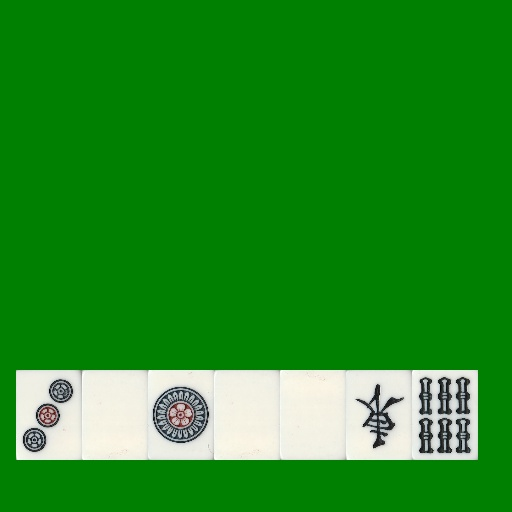1p: (148, 370, 214, 460)
3p: (16, 370, 82, 460)
6s: (412, 370, 478, 460)
east: (346, 370, 412, 460)
white: (82, 370, 148, 460), (214, 370, 280, 460), (280, 370, 346, 460)
